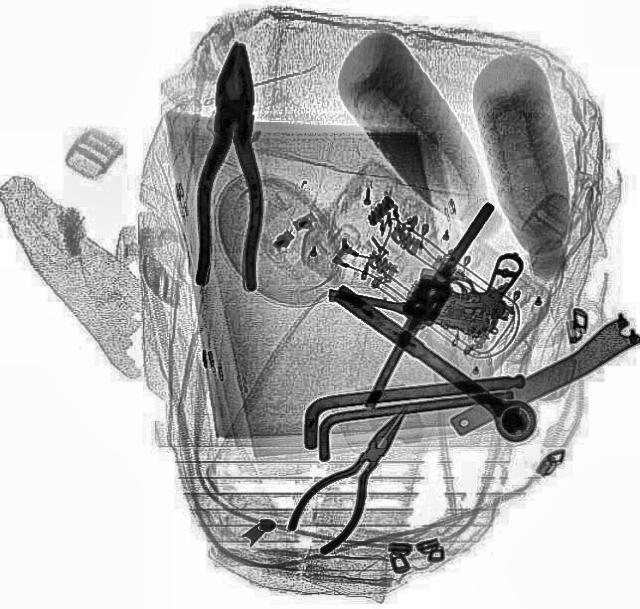Gun: (322, 216, 526, 344)
Pliers: (279, 389, 433, 557), (193, 42, 271, 290)
